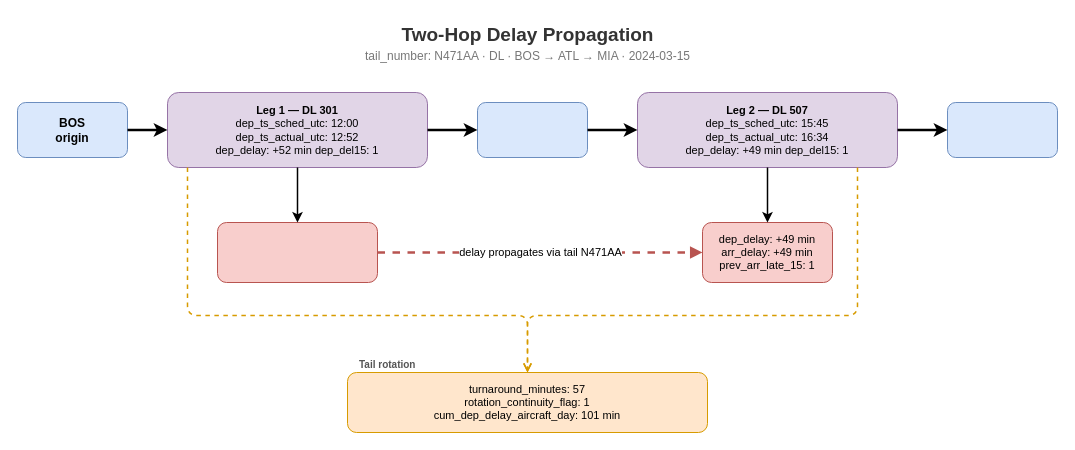
This 1075x450 diagram has some shape labels left out. The centre of each missing label's shape, as x and y in pixels:
"ATL dest / origin" belongs at pixel 532 130.
"dep_delay: +52 min arr_delay: +52 min prev_arr_late_15: 1" belongs at pixel 297 252.
"MIA dest" belongs at pixel 1002 130.
